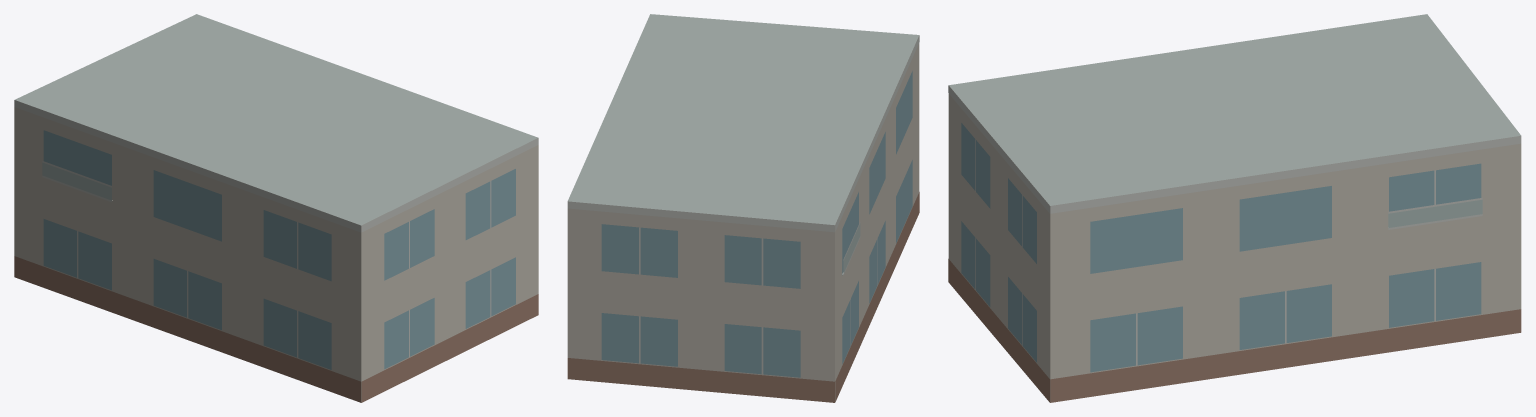
The model's file is survey-upis-32704994.glb.
3 views of the same model, side by side, from view 1: azimuth 30°, elevation 25°; view 2: azimuth 150°, elevation 25°; view 3: azimuth 270°, elevation 25° (orthographic). The views are drawn at different scales.
Visible parts, largest first — view 1: survey-upis-32704994.tmp; view 2: survey-upis-32704994.tmp; view 3: survey-upis-32704994.tmp.
Boxes of the visible parts, x1,y1,x2,y2 form: survey-upis-32704994.tmp: (14, 14, 538, 402); survey-upis-32704994.tmp: (567, 14, 919, 402); survey-upis-32704994.tmp: (948, 14, 1521, 402).
Size of the model in its own units: 12.76 by 6.1 by 16.1.
